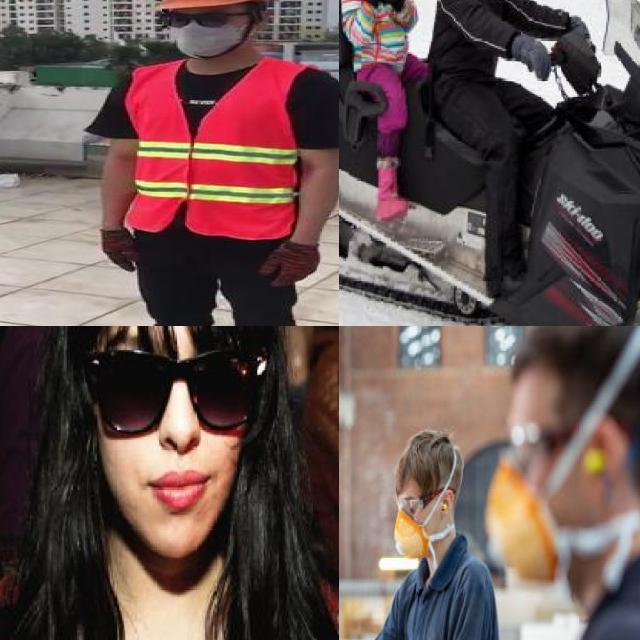No_Ear-Protection: (439, 489, 455, 517)
face_mask: (487, 460, 557, 580), (159, 9, 245, 56), (394, 511, 429, 558)
face_nomask: (85, 346, 253, 530)
glasses: (84, 326, 259, 437), (153, 6, 240, 32)
hand_glove: (507, 421, 574, 473), (256, 242, 320, 286), (514, 27, 558, 82), (98, 227, 139, 274), (397, 490, 442, 518), (566, 9, 592, 37), (384, 0, 406, 9), (361, 0, 386, 7)
head_helmet: (149, 0, 279, 11)
head_nohelmet: (513, 326, 637, 421), (396, 429, 464, 496), (610, 359, 640, 490)
person: (0, 326, 339, 640), (91, 0, 339, 326), (416, 0, 582, 302), (339, 0, 437, 227)
shoes: (368, 158, 410, 222)
vest: (127, 59, 300, 240)
